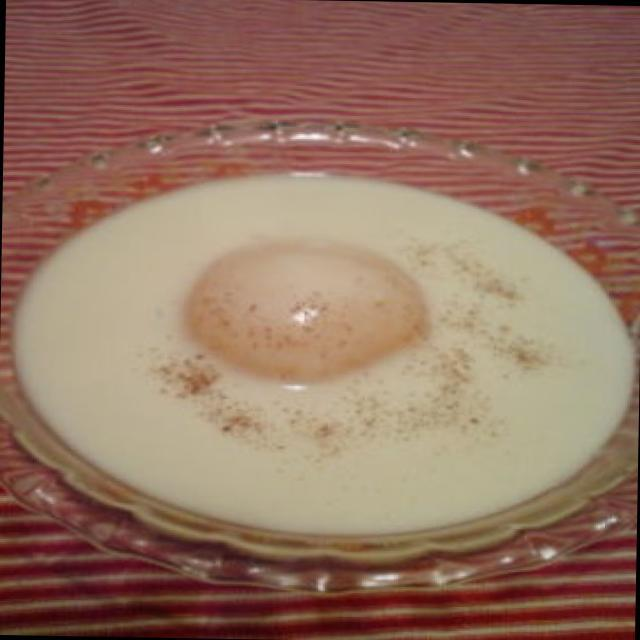Egg: (16, 157, 640, 544)
